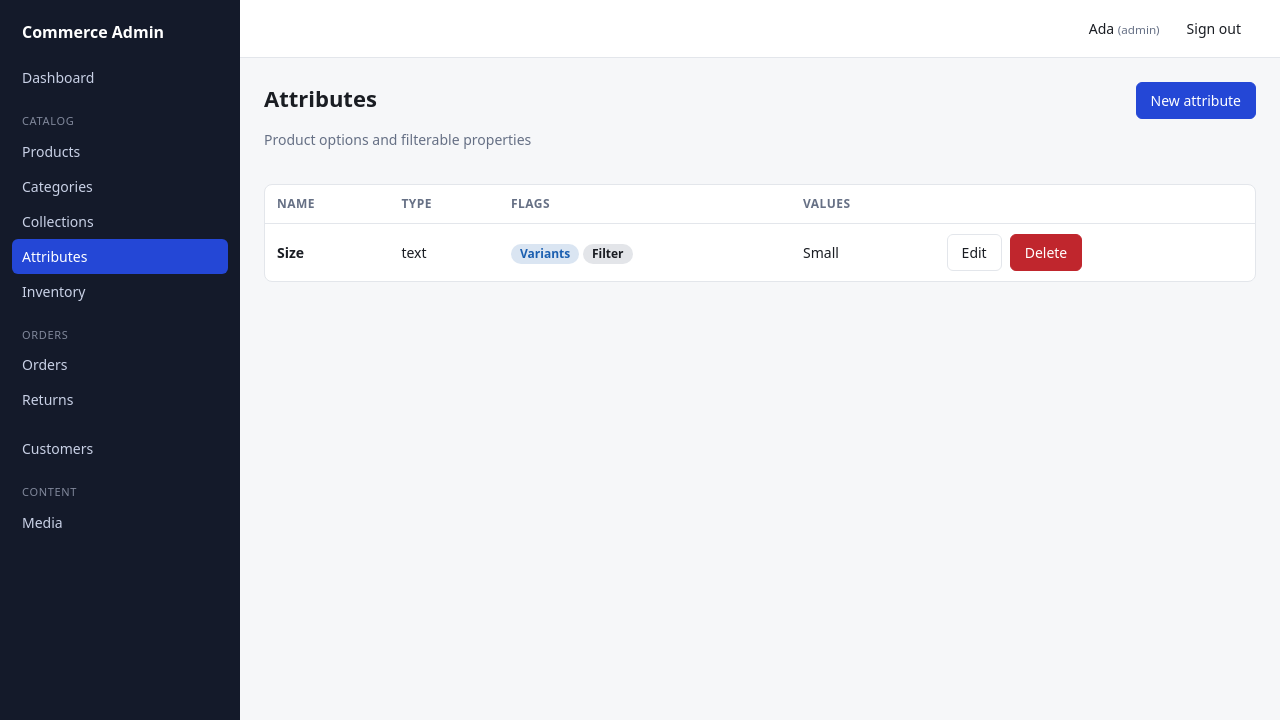
it: attributes › renames a value and surfaces the 409 when deleting a value in use
Click the button named "Edit Size". click: coordinates (974, 252)
box: 947,234 -> 1002,271
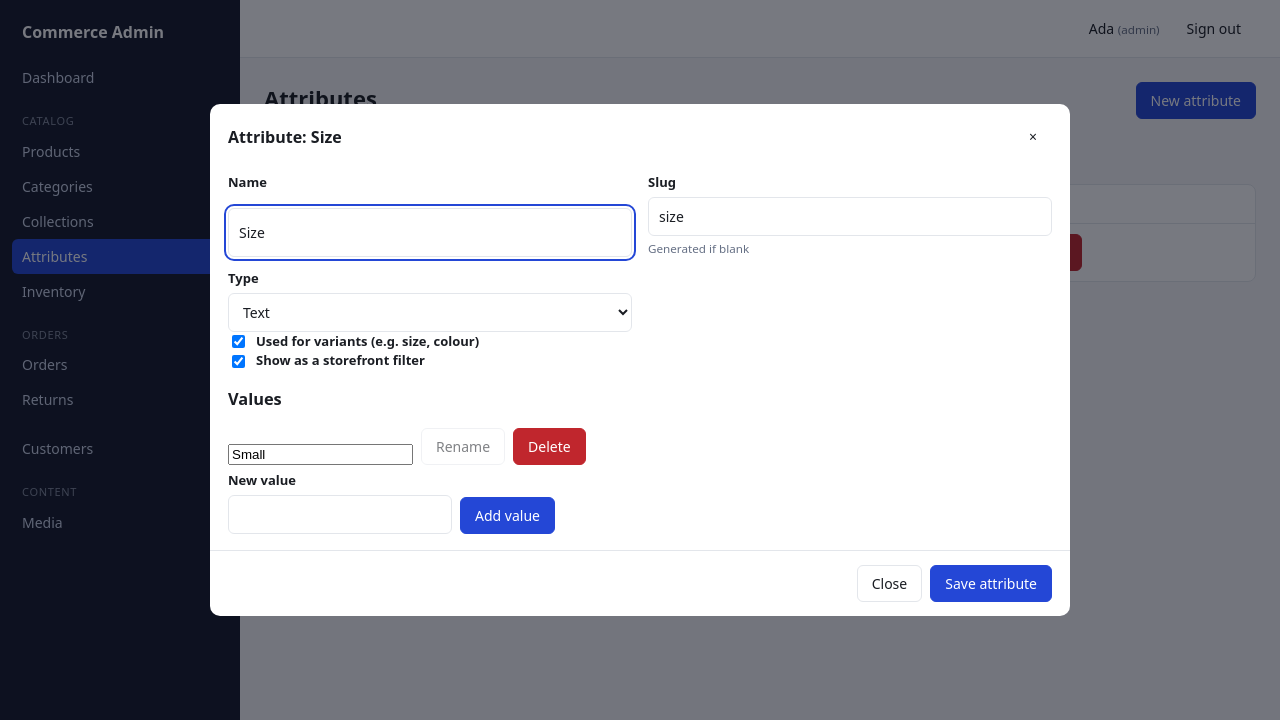
Replace the text in the field named "Value Small" with "Tiny". click: coordinates (320, 455)
box: 228,444 -> 413,465
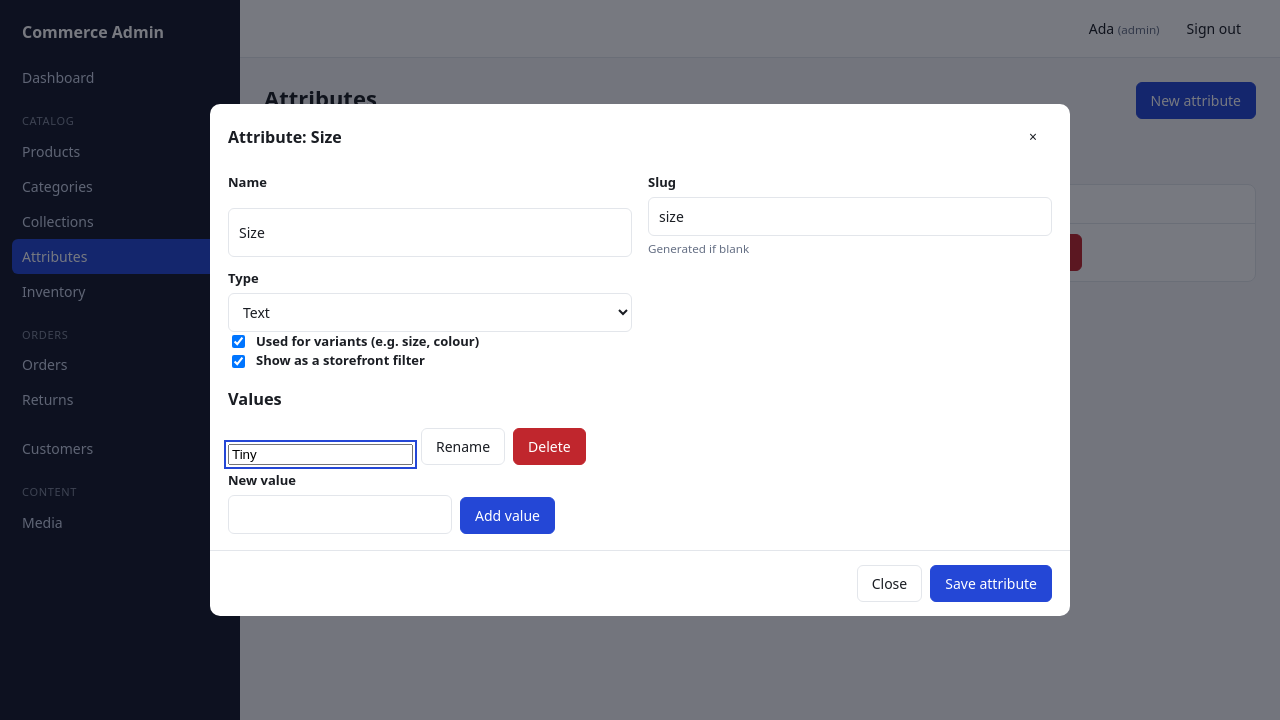
Click the button "Rename". click: coordinates (463, 447)
box: 421,428 -> 505,465
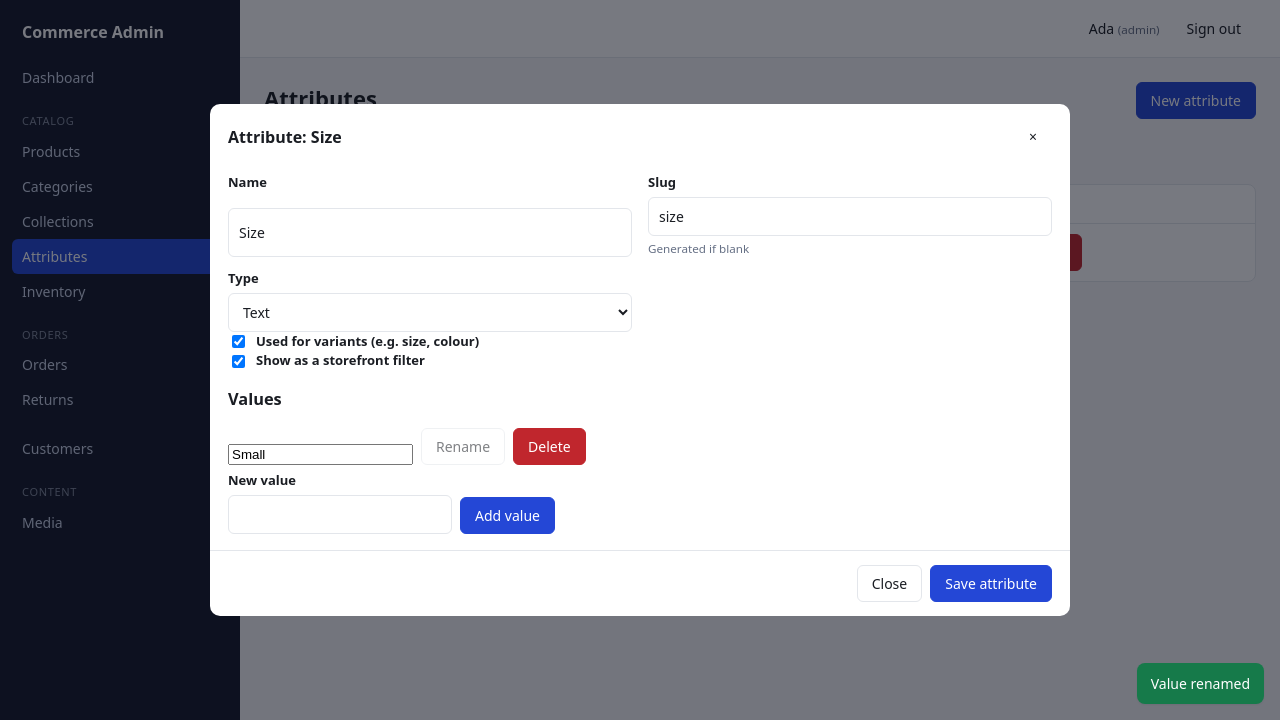
Click the button named "Delete value Small". click: coordinates (549, 447)
box: 513,428 -> 586,465
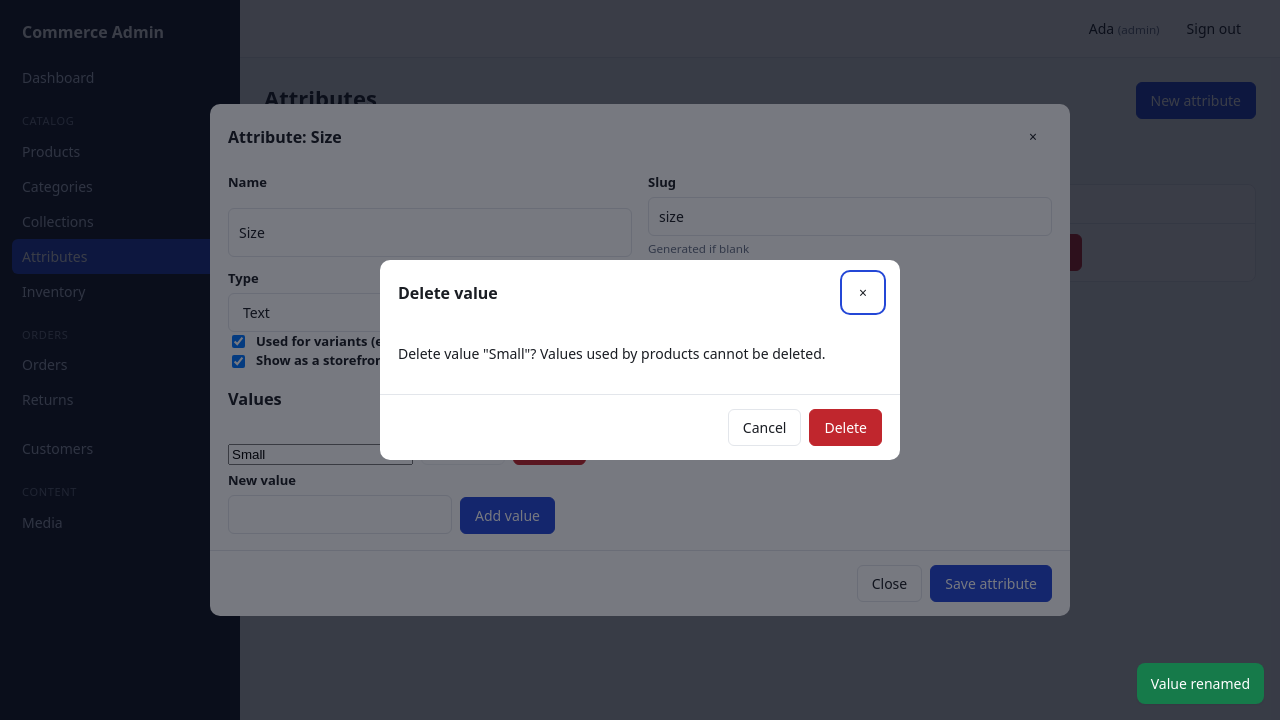
Click the button "Delete". click: coordinates (846, 428)
box: 809,409 -> 882,446
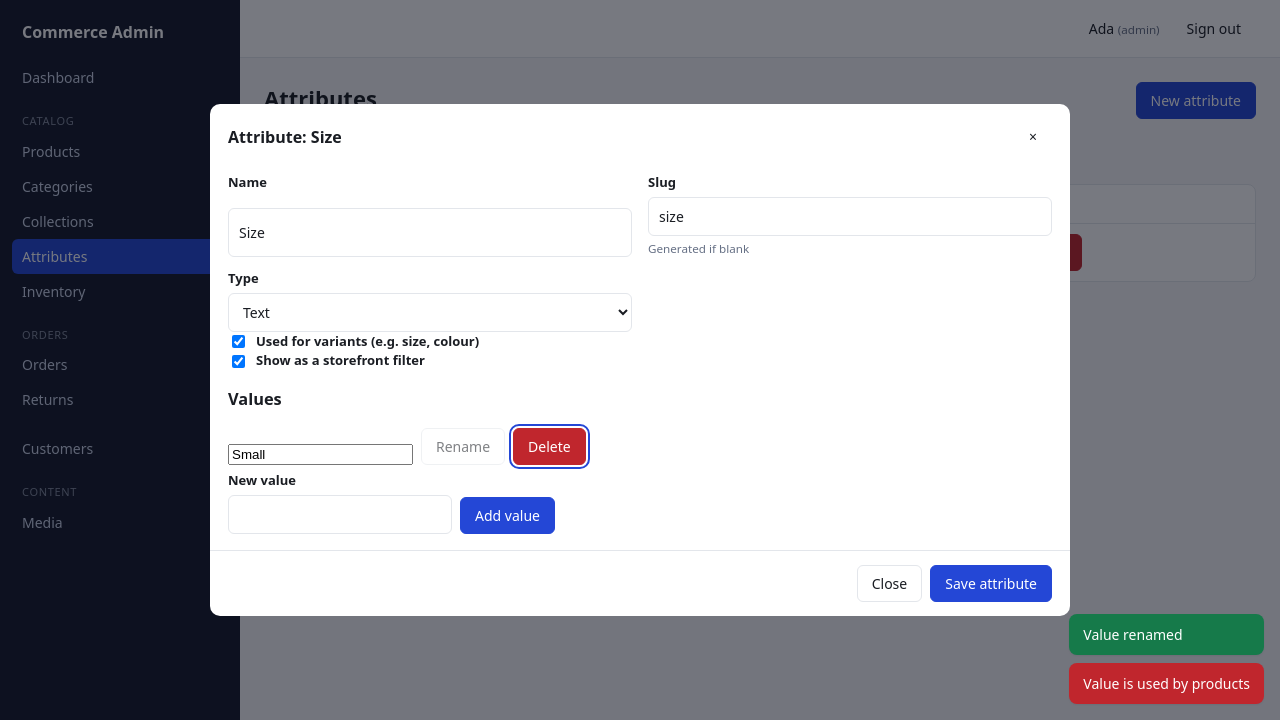
Check: the text "Value is used by products" is shown, box 1069,663 -> 1264,704
